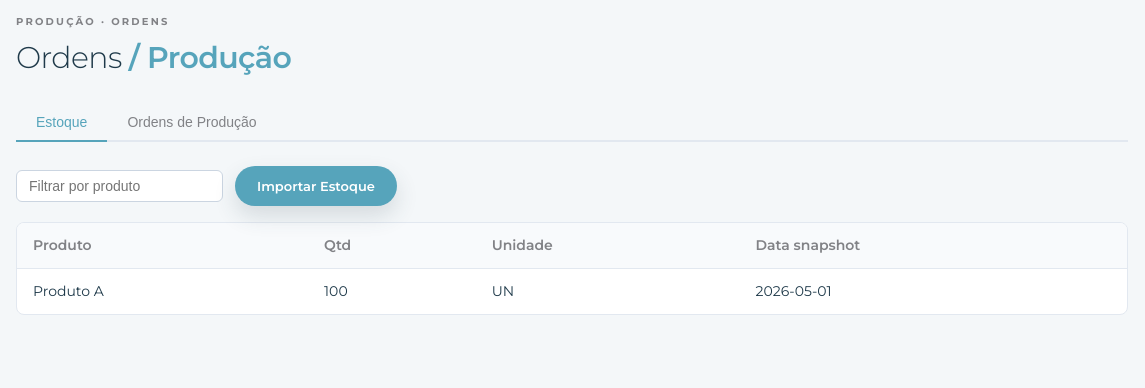
it: ProductionOrdersComponent › Orders tab › shows import orders button for SUPERVISOR
Step 1. Click the tab with test id "tab-orders" → x=192, y=123, box [107,104,277,142]
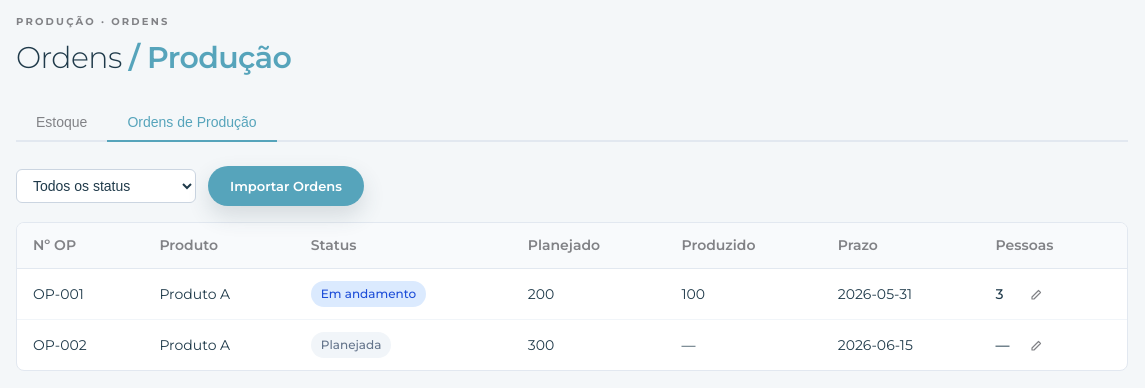
Expected: the button with test id "btn-import-orders" is shown, [208,166,364,206]
